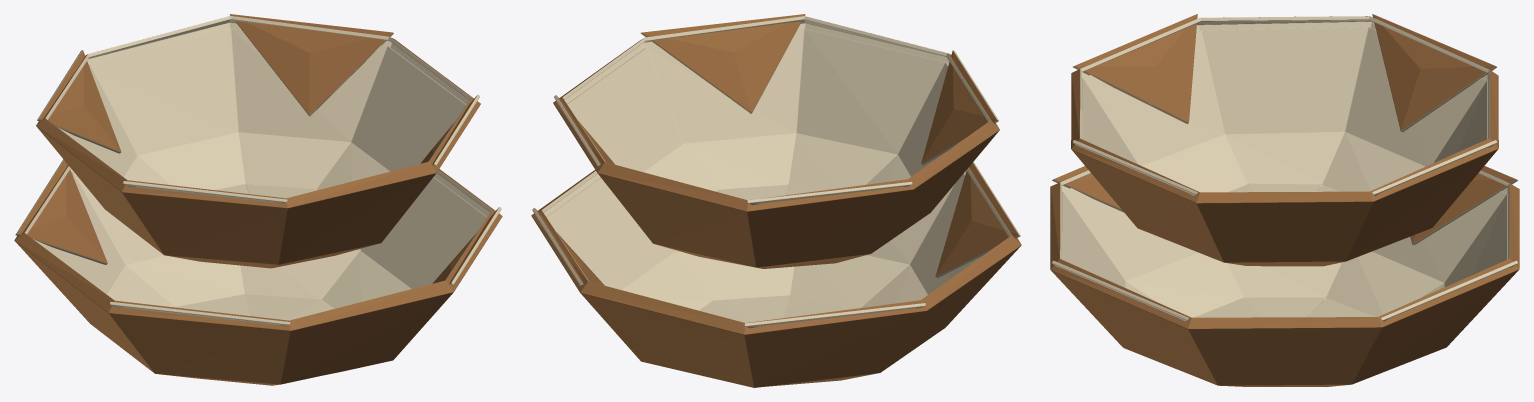
The model's file is achievement-century-club.glb.
The picture shows the model from 3 angles, left to right: view 1: azimuth 30°, elevation 25°; view 2: azimuth 150°, elevation 25°; view 3: azimuth 270°, elevation 25°; orthographic projection. The views are drawn at different scales.
Parts seen in each view (by area): view 1: achievement-century-club; view 2: achievement-century-club; view 3: achievement-century-club.
Boxes of the visible parts, bbox=[...] form: achievement-century-club: bbox=[14, 14, 502, 385]; achievement-century-club: bbox=[531, 14, 1021, 387]; achievement-century-club: bbox=[1050, 14, 1519, 386].
Size of the model in its own units: 1.56 by 0.9041 by 1.56.
